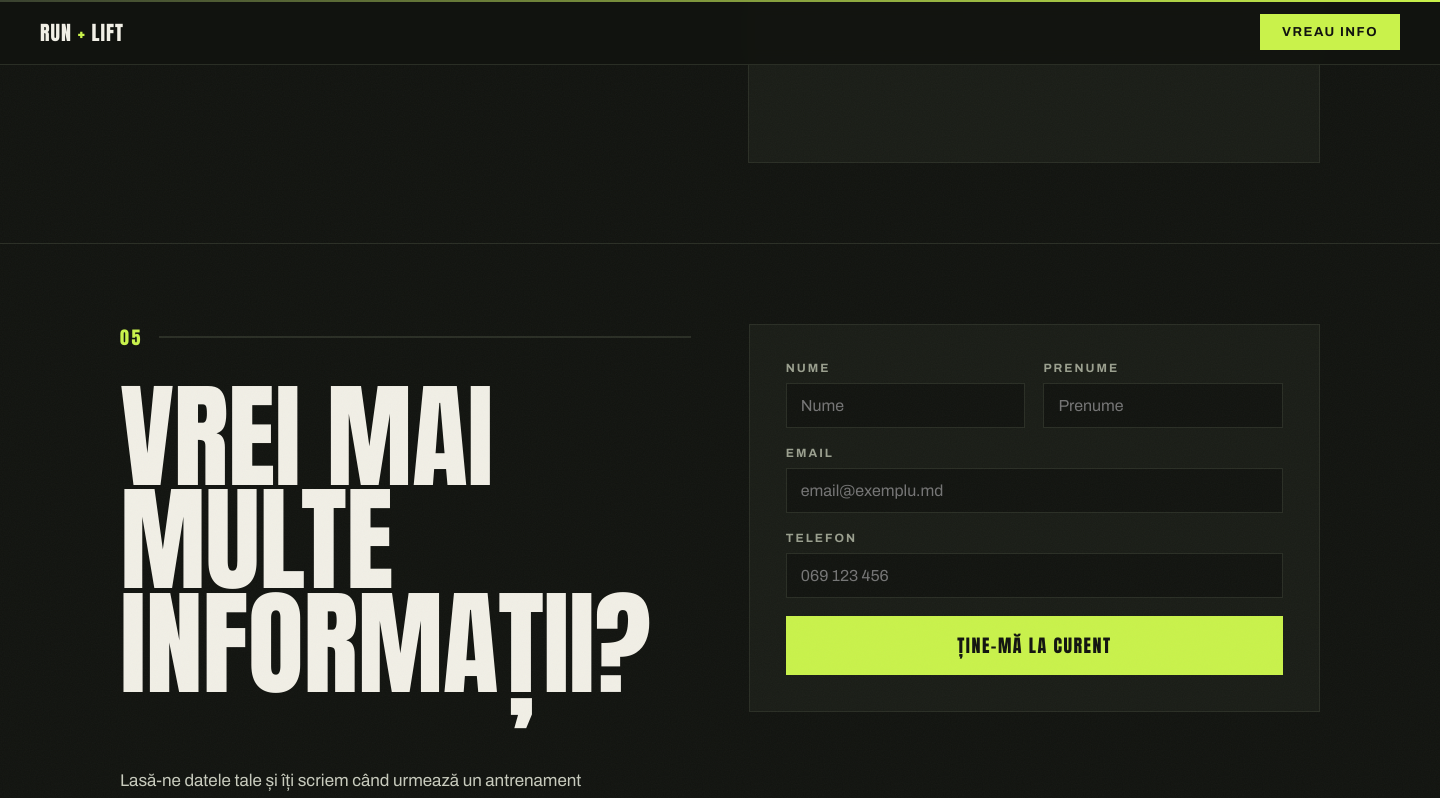
Test: pagina Despre noi › un eșec păstrează datele completate și permite reîncercarea
The image size is (1440, 798).
(page scrolled)
In the field labelled "Nume": (906, 405) [786,383,1025,428], type "Popescu"
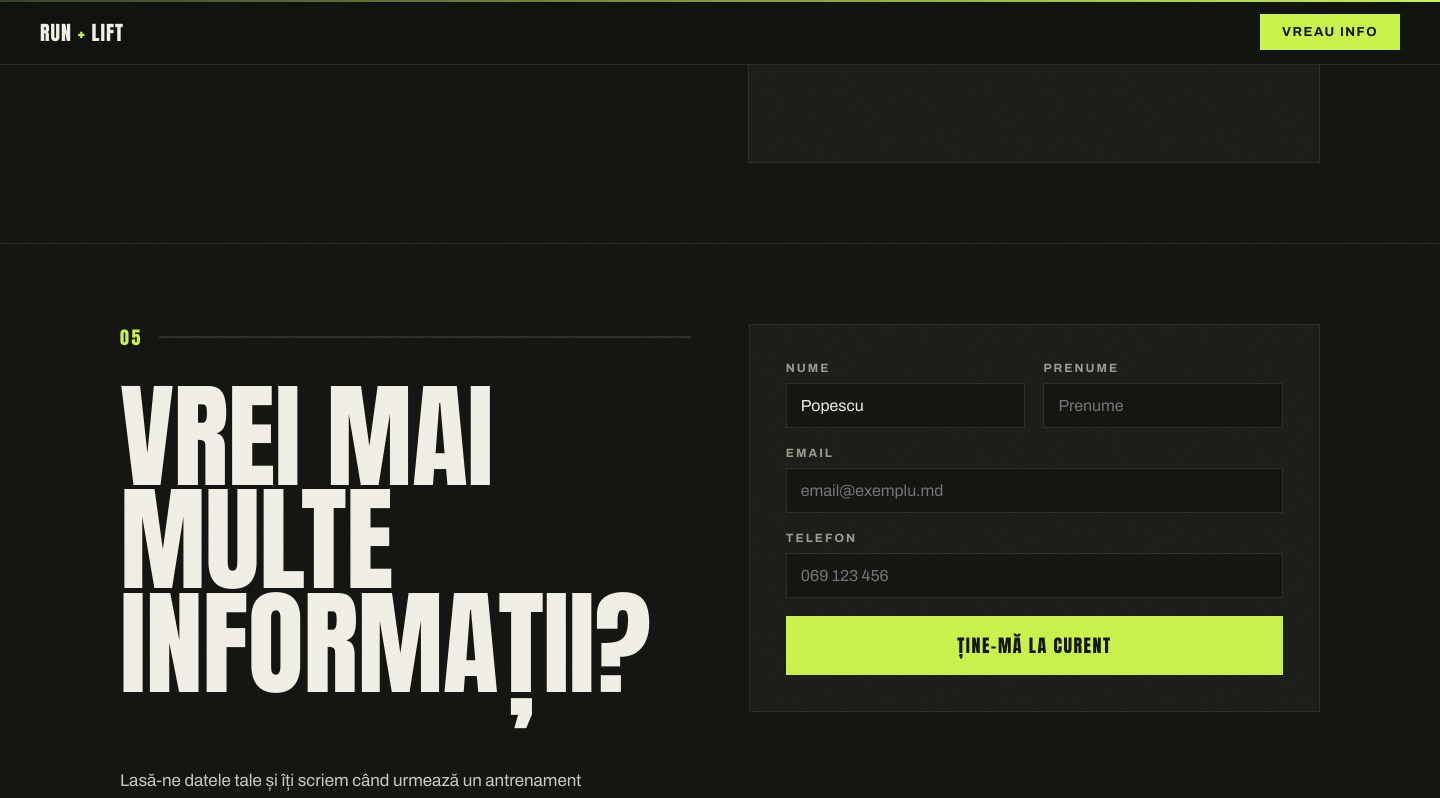
In the field labelled "Prenume": (1163, 405) [1043,383,1283,428], type "Ana"
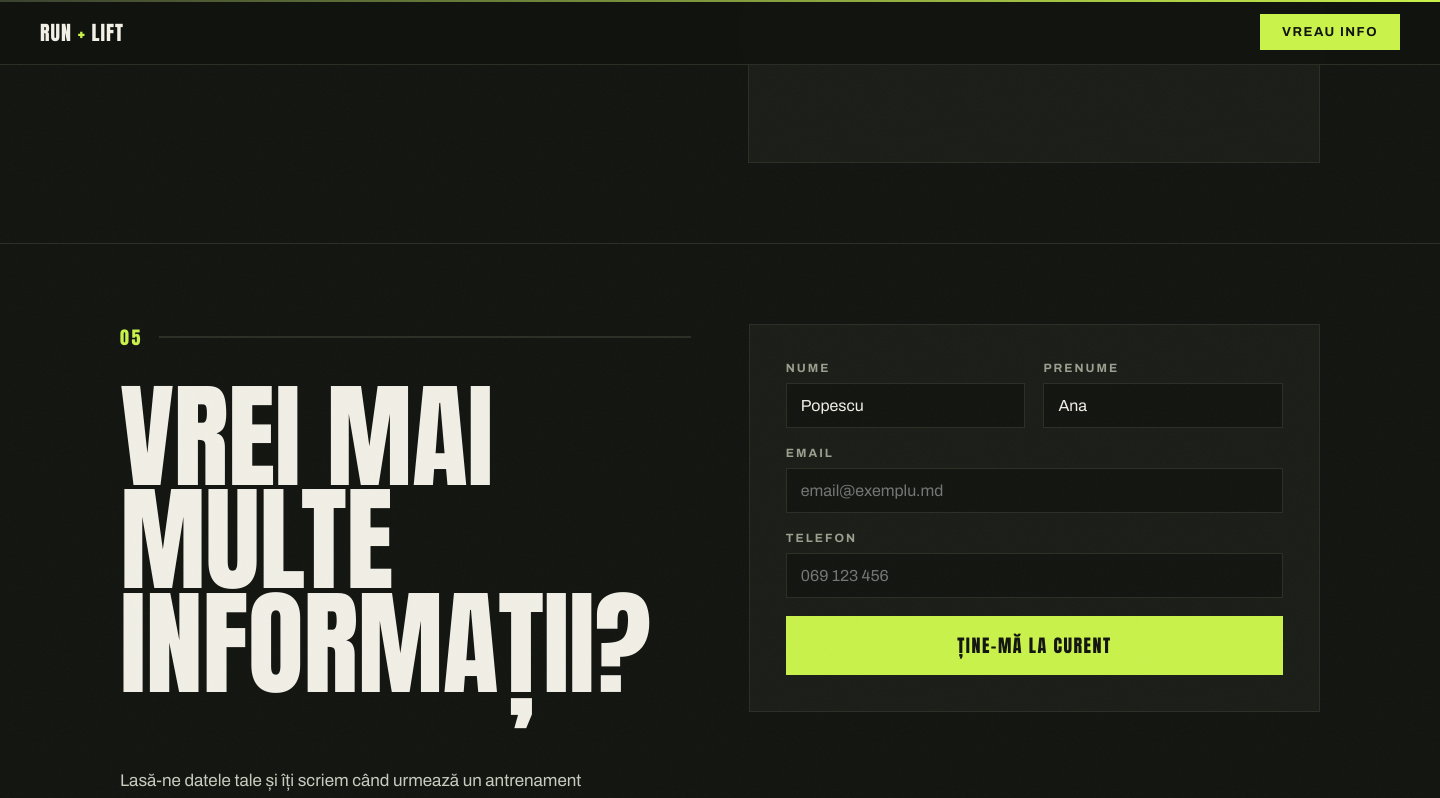
In the field labelled "Email": (1034, 490) [786,468,1283,513], type "ana@example.com"
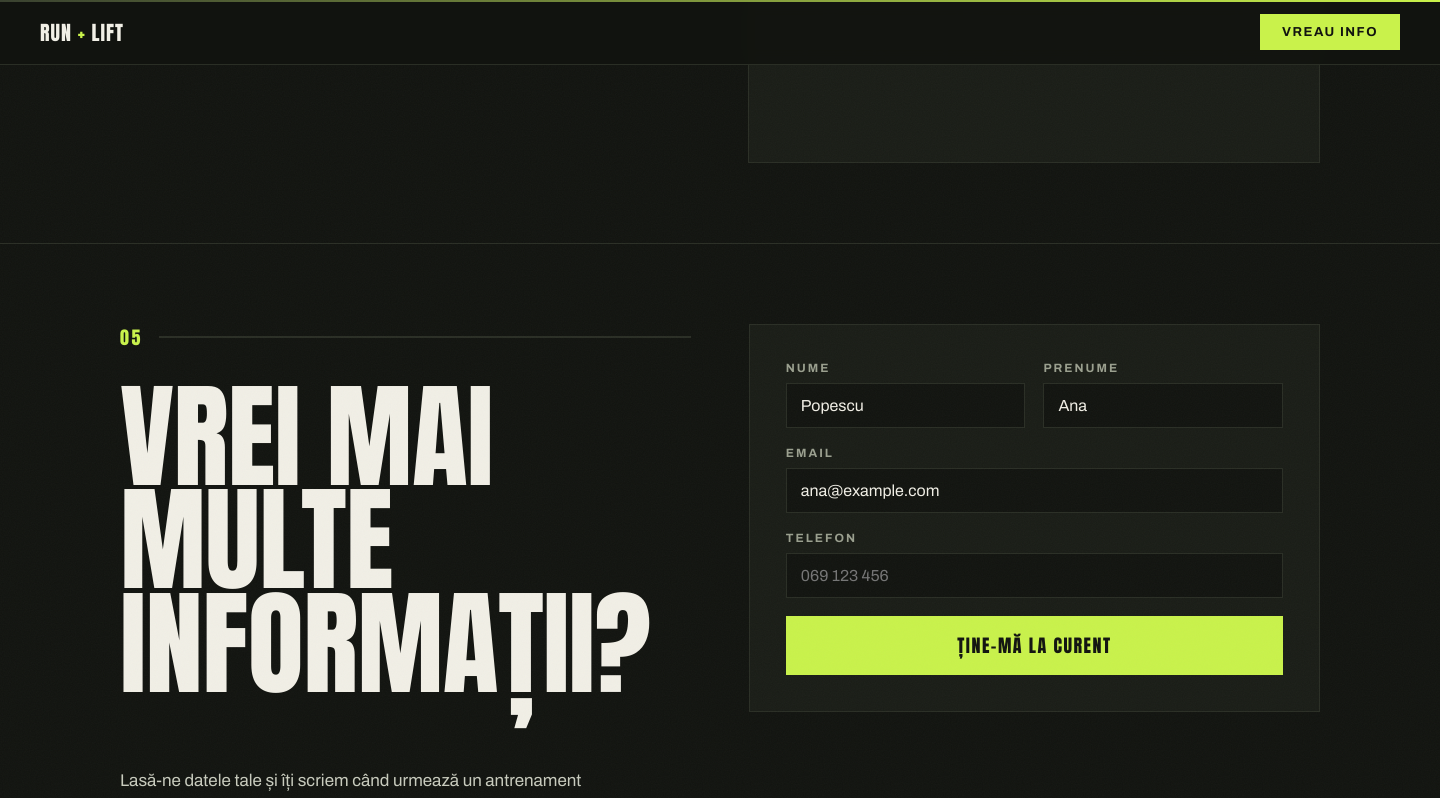
In the field labelled "Telefon": (1034, 575) [786,553,1283,598], type "069123456"
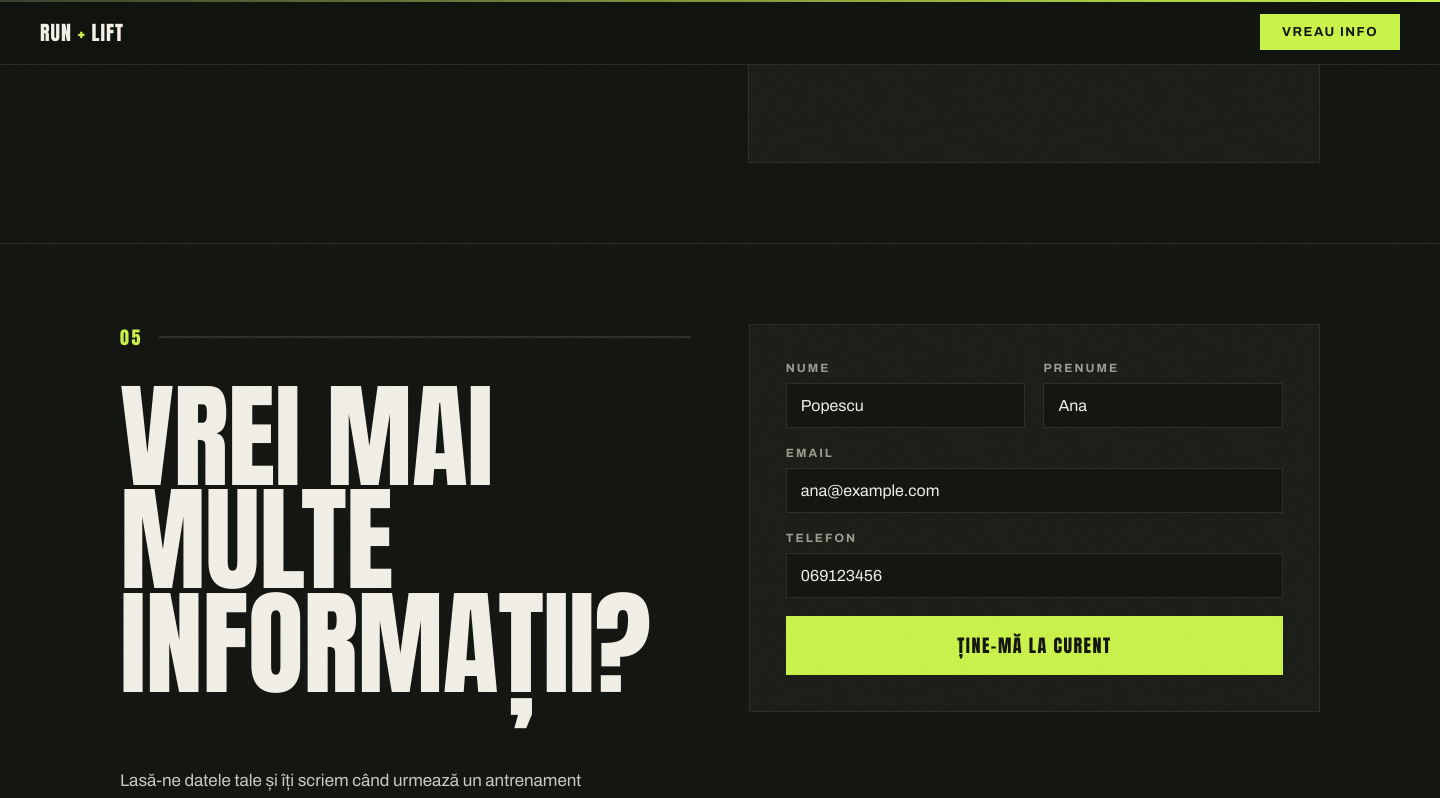
Click the button "Ține-mă la curent": (1034, 645) [786,616,1283,675]
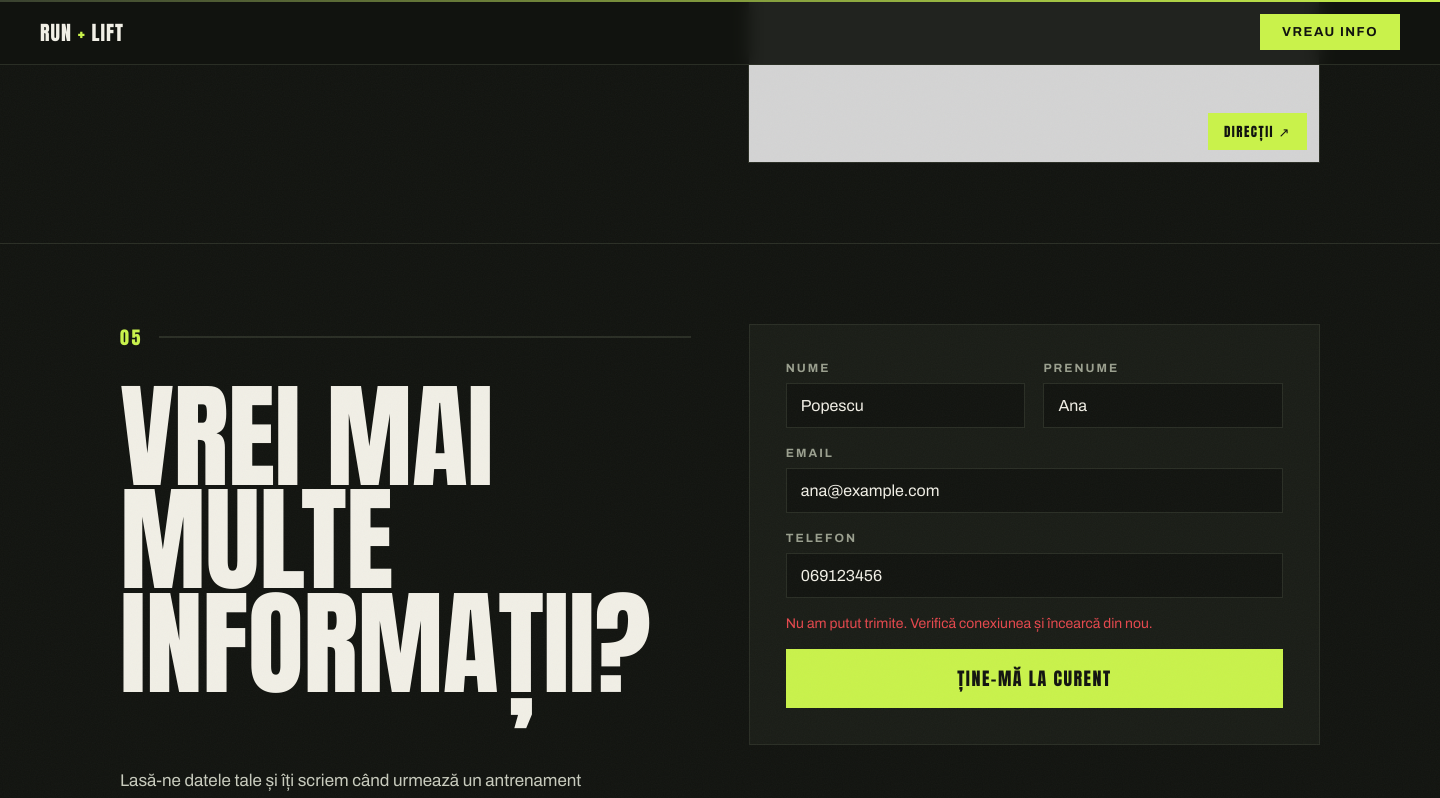
Expected: the button "Ține-mă la curent" is enabled, [786,649,1283,708]
Expected: the message shows "Nu am putut trimite", [786,616,1153,631]
